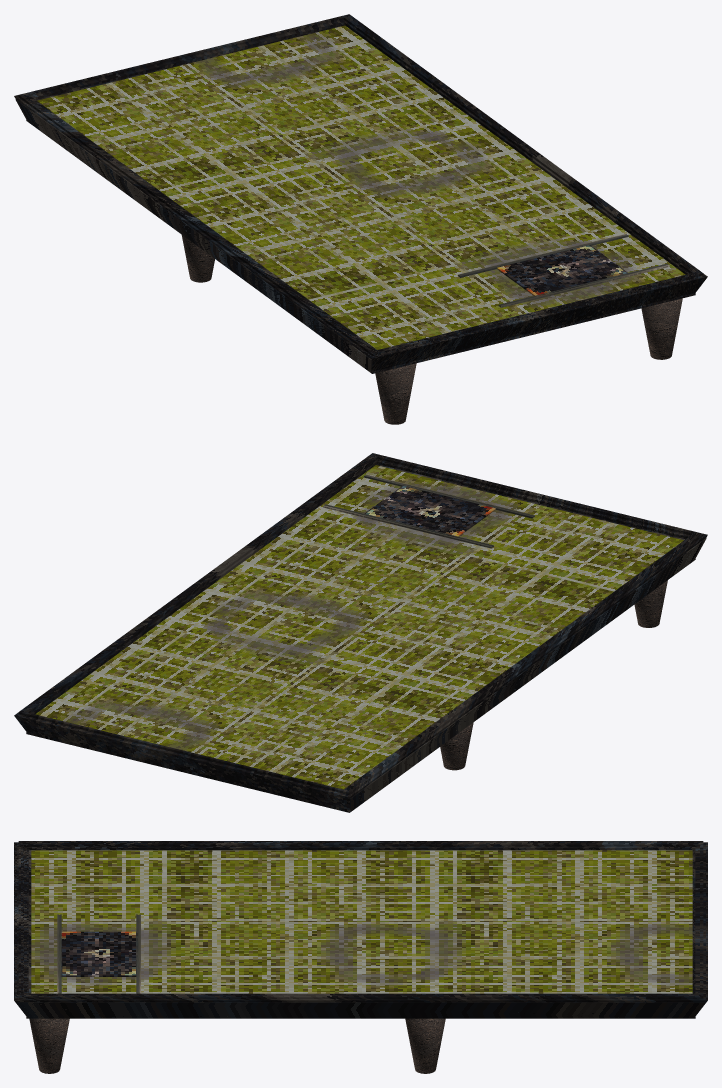
The model's file is Table.glb.
The picture shows the model from 3 angles, top to bottom: view 1: azimuth 30°, elevation 25°; view 2: azimuth 150°, elevation 25°; view 3: azimuth 270°, elevation 25°; orthographic projection. The views are drawn at different scales.
Visible parts, largest first — view 1: Cube.005, Cube.001, Cube.029, Cube, Cylinder, Cube.019, Cube.023, Cube.021; view 2: Cube.005, Cube.001, Cube.029, Cube, Cylinder, Cube.019, Cube.023, Cube.021; view 3: Cube.005, Cube.001, Cube.029, Cube, Cylinder, Cube.023, Cube.019, Cube.021.
Boxes of the visible parts, bbox=[...] form: Cube.005: bbox=[37, 25, 616, 299]; Cube.001: bbox=[14, 14, 707, 373]; Cube.029: bbox=[309, 224, 685, 349]; Cube: bbox=[15, 24, 533, 372]; Cylinder: bbox=[181, 235, 682, 424]; Cube.019: bbox=[497, 255, 588, 296]; Cube.023: bbox=[550, 245, 627, 284]; Cube.021: bbox=[458, 233, 669, 307]; Cube.005: bbox=[35, 516, 613, 789]; Cube.001: bbox=[14, 453, 707, 812]; Cube.029: bbox=[306, 465, 683, 591]; Cube: bbox=[350, 464, 706, 811]; Cylinder: bbox=[440, 580, 667, 770]; Cube.019: bbox=[404, 495, 495, 537]; Cube.023: bbox=[364, 485, 456, 523]; Cube.021: bbox=[323, 474, 534, 548]; Cube.005: bbox=[167, 850, 692, 993]; Cube.001: bbox=[14, 841, 707, 1018]; Cube.029: bbox=[31, 850, 166, 993]; Cube: bbox=[17, 850, 704, 1018]; Cylinder: bbox=[29, 1018, 445, 1073]; Cube.023: bbox=[61, 948, 136, 976]; Cube.019: bbox=[61, 931, 137, 956]; Cube.021: bbox=[57, 914, 140, 993].
Size of the model in its own units: 1.71 by 0.4259 by 3.17.
6 materials, 6 textured.
